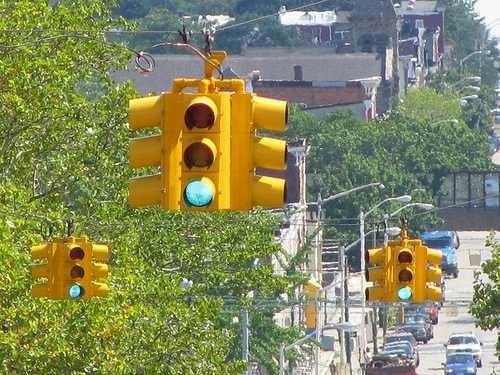green: (175, 94, 228, 209), (177, 174, 223, 208), (391, 244, 416, 305), (62, 243, 88, 300), (395, 285, 416, 303), (63, 284, 88, 299)
